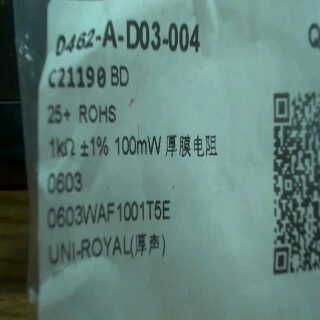1kR: (46, 131, 77, 163)
